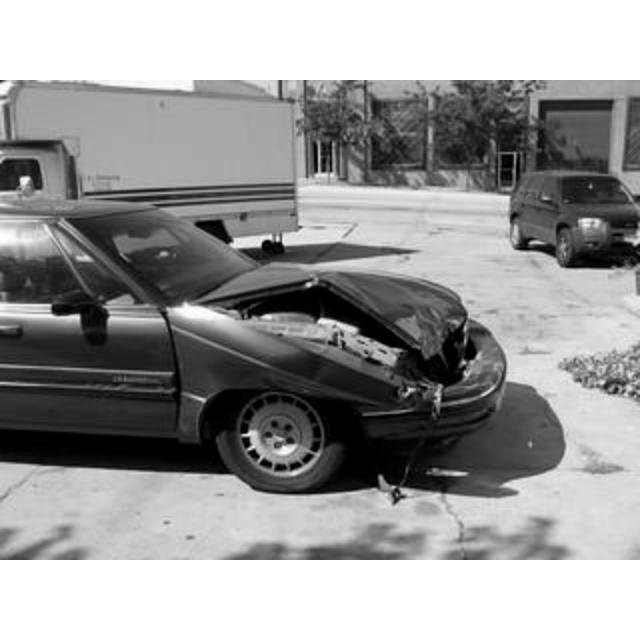bonnet-dent: (246, 258, 474, 352)
fender-dent: (170, 324, 386, 404)
